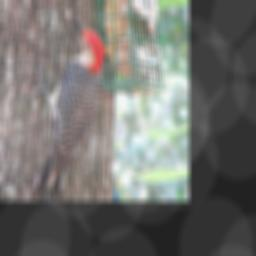Woodpecker: (26, 11, 105, 200)
